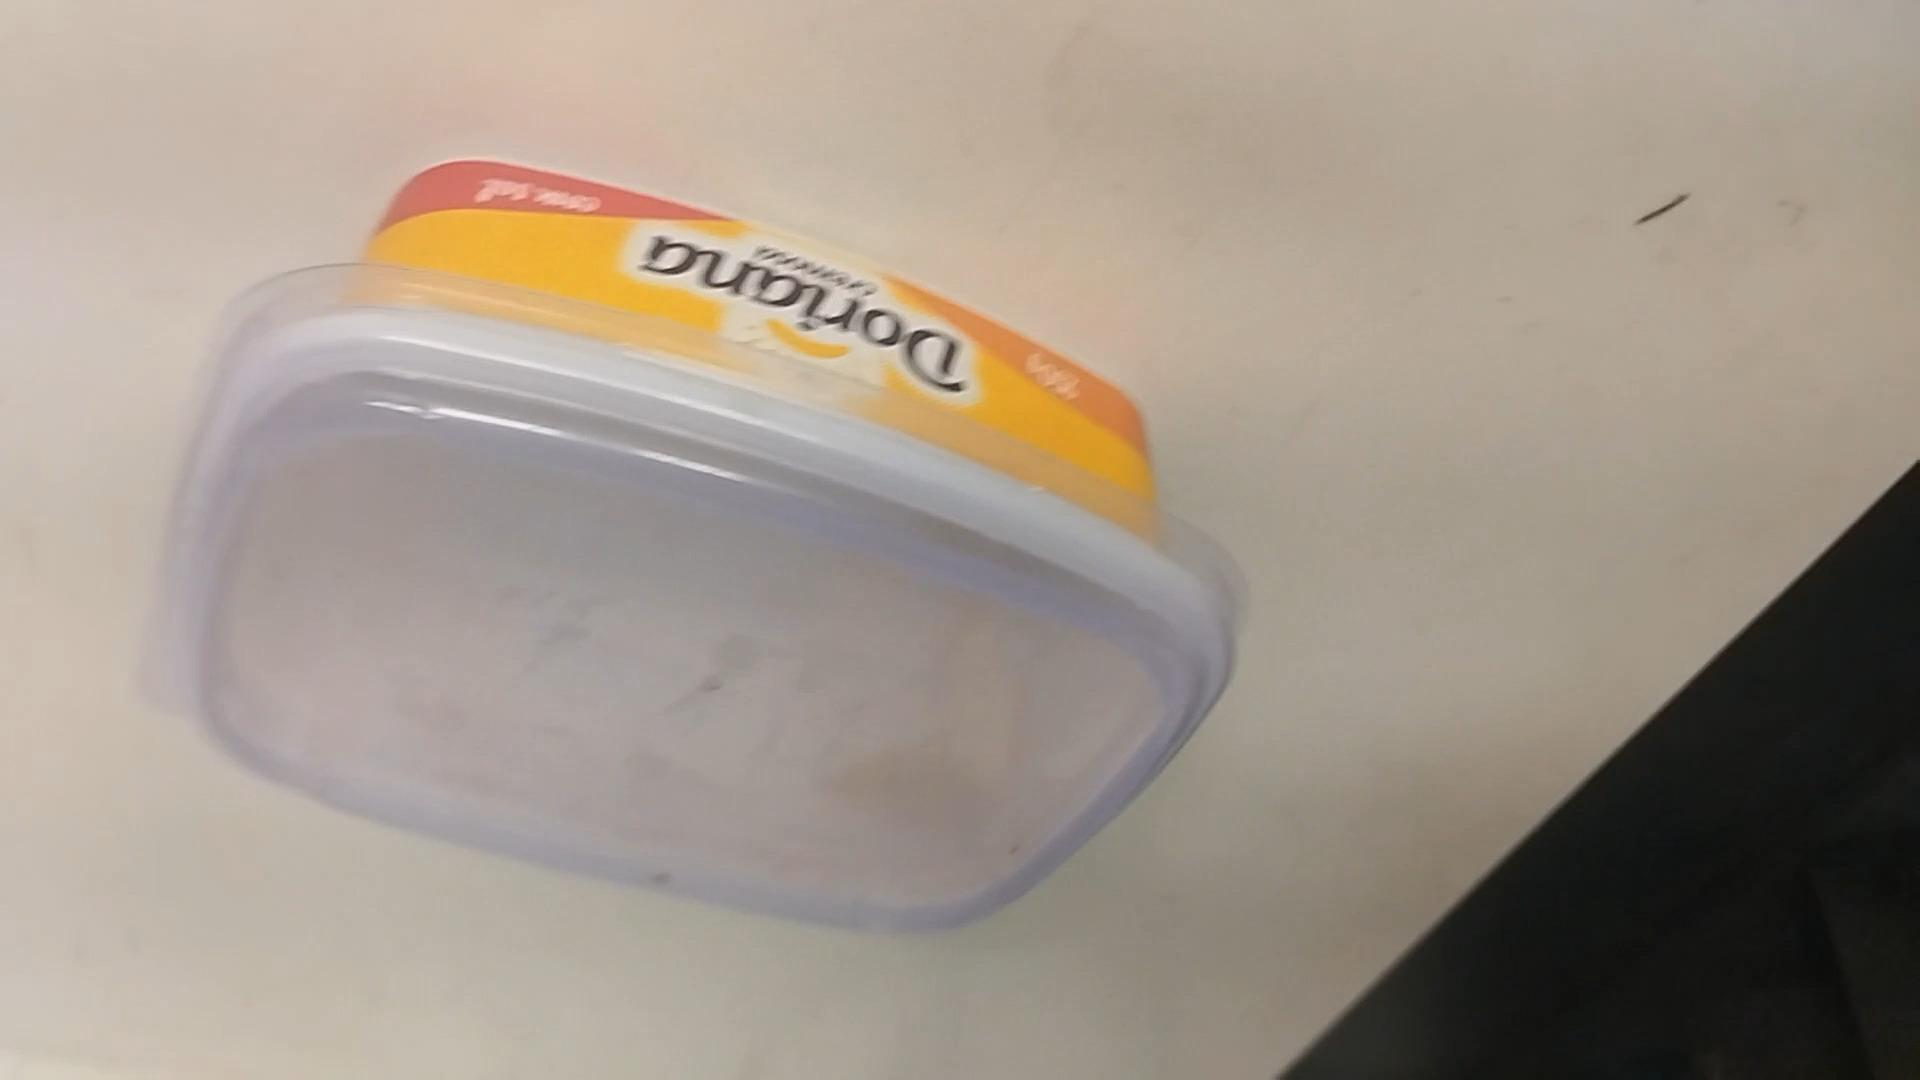butter: (136, 170, 1241, 942)
